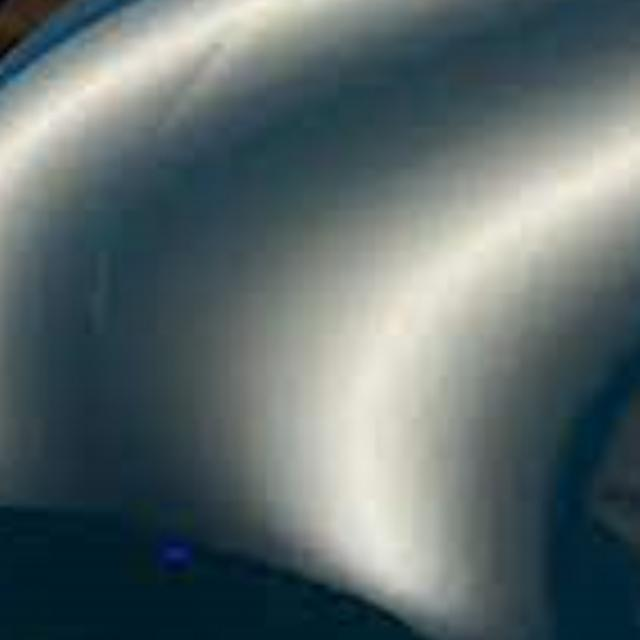dents: (148, 24, 259, 150)
